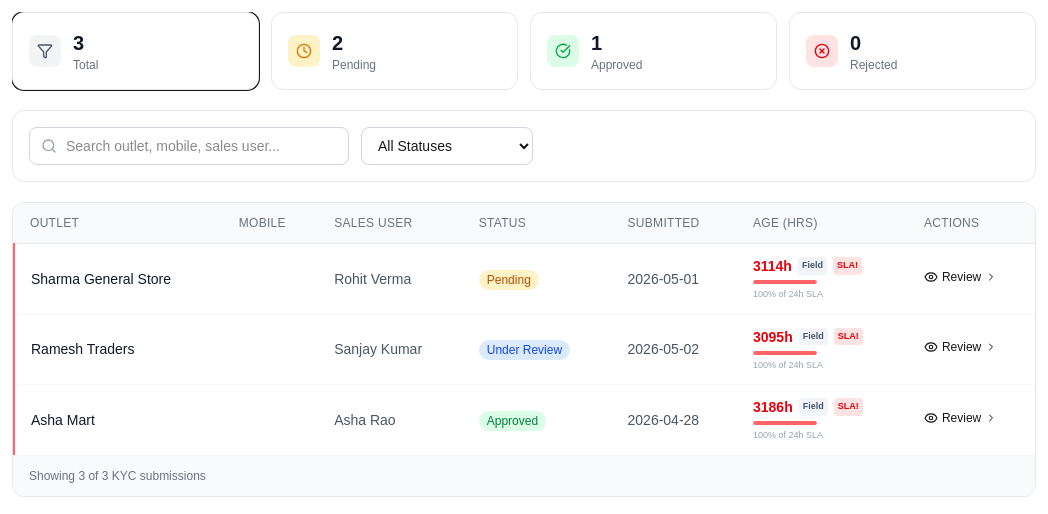
Test: KYC — Pending card ⟷ filter reconciliation › PR3: clicking Pending shows the same rows as the card count
The width and height of the screenshot is (1048, 514).
Click the button "2 Pending" at x=394, y=51, box x1=271 y1=12 x2=518 y2=90
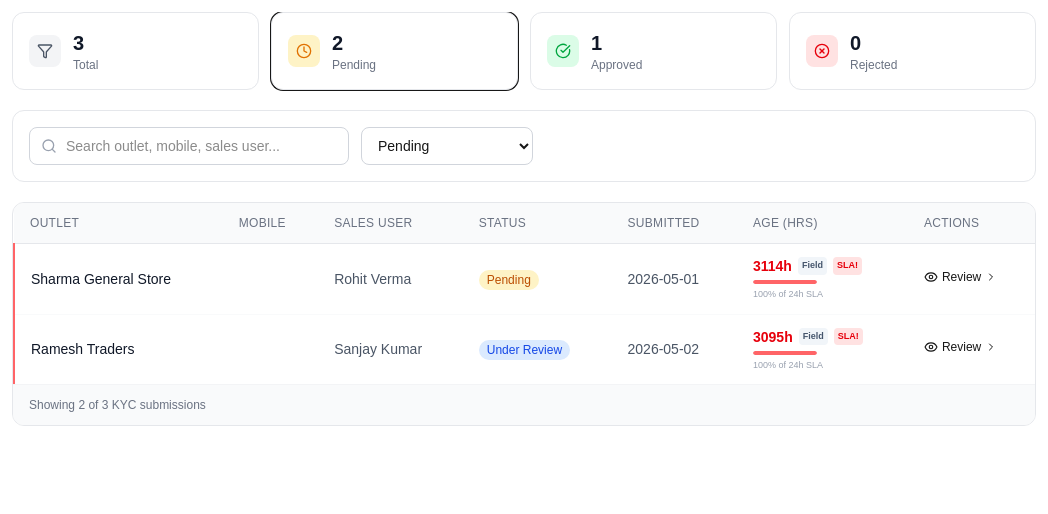
Expected: the text "Sharma General Store" is shown, x1=31 y1=271 x2=171 y2=287
Expected: the text "Asha Mart" is gone
Expected: the text "Showing 2 of 3 KYC submissions" is shown, x1=29 y1=398 x2=206 y2=412
